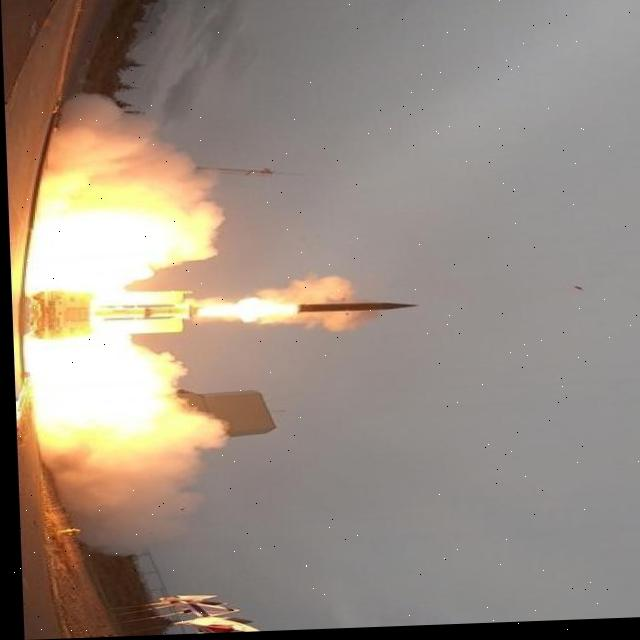missile: (283, 293, 418, 327)
